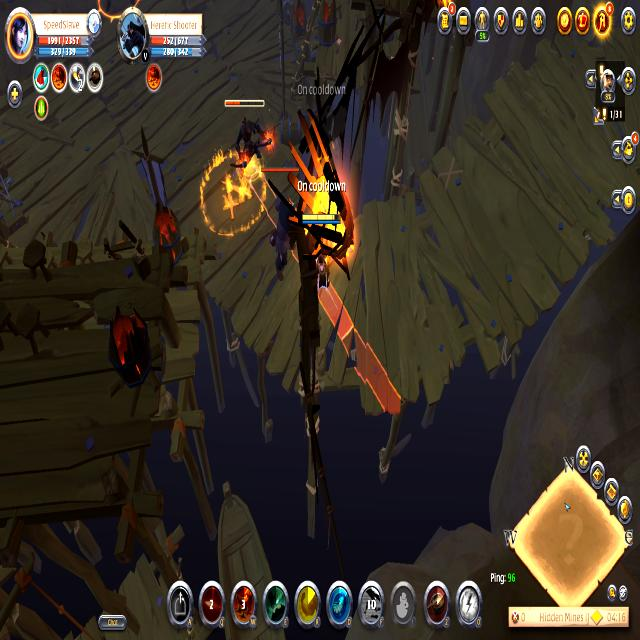ore: (262, 157, 305, 295), (220, 89, 274, 189), (90, 0, 143, 22)
red: (300, 205, 342, 299)
silver: (246, 164, 404, 415)
